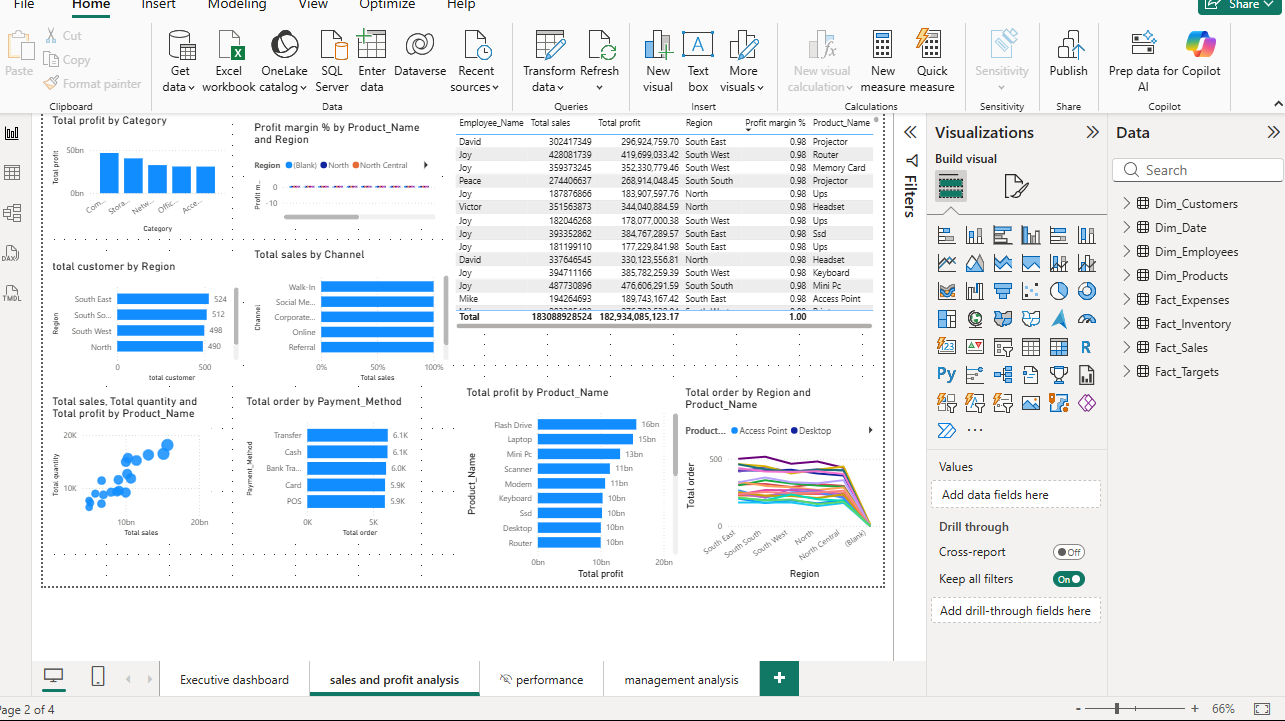

What the dashboard file says about the page in this screenshot:
{"tool":"powerbi","page":{"name":"sales and profit analysis","canvas":[1280,720],"ordinal":1},"visuals":[{"type":"clusteredColumnChart","fields":{"Category":["Dim_Products.Category"],"Y":["Dim_Customers.Total profit"]},"box":[9.6,0,273.6,187.2],"z":0},{"type":"clusteredColumnChart","fields":{"Category":["Dim_Products.Product_Name"],"Series":["Dim_Customers.Region"],"Y":["Dim_Customers.Profit margin %"]},"box":[316.8,11.2,286.4,156.8],"z":1000},{"type":"scatterChart","fields":{"X":["Dim_Customers.Total sales"],"Category":["Dim_Products.Product_Name"],"Y":["Dim_Customers.Total quantity"],"Size":["Dim_Customers.Total profit"]},"box":[9.6,428.8,248,222.4],"z":2000},{"type":"clusteredBarChart","fields":{"Y":["Dim_Customers.total customer"],"Category":["Dim_Customers.Region"]},"box":[9.6,222.4,294.4,192],"z":3000},{"type":"tableEx","fields":{"Values":["Dim_Employees.Employee_Name","Dim_Customers.Total sales","Dim_Customers.Total profit","Dim_Customers.Region","Dim_Customers.Profit margin %","Dim_Products.Product_Name"]},"box":[623.2,0,656,334.4],"z":4000},{"type":"barChart","fields":{"Category":["Fact_Sales.Payment_Method"],"Y":["Dim_Customers.Total order"]},"box":[304,428.8,270.4,222.4],"z":5000},{"type":"clusteredBarChart","fields":{"Y":["Dim_Customers.Total profit"],"Category":["Dim_Products.Product_Name"]},"box":[640,414.4,332.8,300.8],"z":6000},{"type":"lineChart","fields":{"Category":["Dim_Customers.Region"],"Series":["Dim_Products.Product_Name"],"Y":["Dim_Customers.Total order"]},"box":[973,414,307,301],"z":7000},{"type":"hundredPercentStackedBarChart","fields":{"Y":["Dim_Customers.Total sales"],"Category":["Fact_Sales.Channel"]},"box":[317,204.2,306.3,210.3],"z":8000}]}

Visuals, with their boxes on the page's 1280x720 design canvas (x1, y1, x2, y2). These are canvas units, not pixel positions in the 1285x721 screenshot, which may show the page scaled, cropped or inside an application window:
clusteredColumnChart - Dim_Products.Category x Dim_Customers.Total profit: bbox=(10, 0, 283, 187)
clusteredColumnChart - Dim_Products.Product_Name x Dim_Customers.Region: bbox=(317, 11, 603, 168)
scatterChart - Dim_Customers.Total sales x Dim_Products.Product_Name: bbox=(10, 429, 258, 651)
clusteredBarChart - Dim_Customers.total customer x Dim_Customers.Region: bbox=(10, 222, 304, 414)
tableEx - Dim_Employees.Employee_Name x Dim_Customers.Total sales: bbox=(623, 0, 1279, 334)
barChart - Fact_Sales.Payment_Method x Dim_Customers.Total order: bbox=(304, 429, 574, 651)
clusteredBarChart - Dim_Customers.Total profit x Dim_Products.Product_Name: bbox=(640, 414, 973, 715)
lineChart - Dim_Customers.Region x Dim_Products.Product_Name: bbox=(973, 414, 1280, 715)
hundredPercentStackedBarChart - Dim_Customers.Total sales x Fact_Sales.Channel: bbox=(317, 204, 623, 414)
